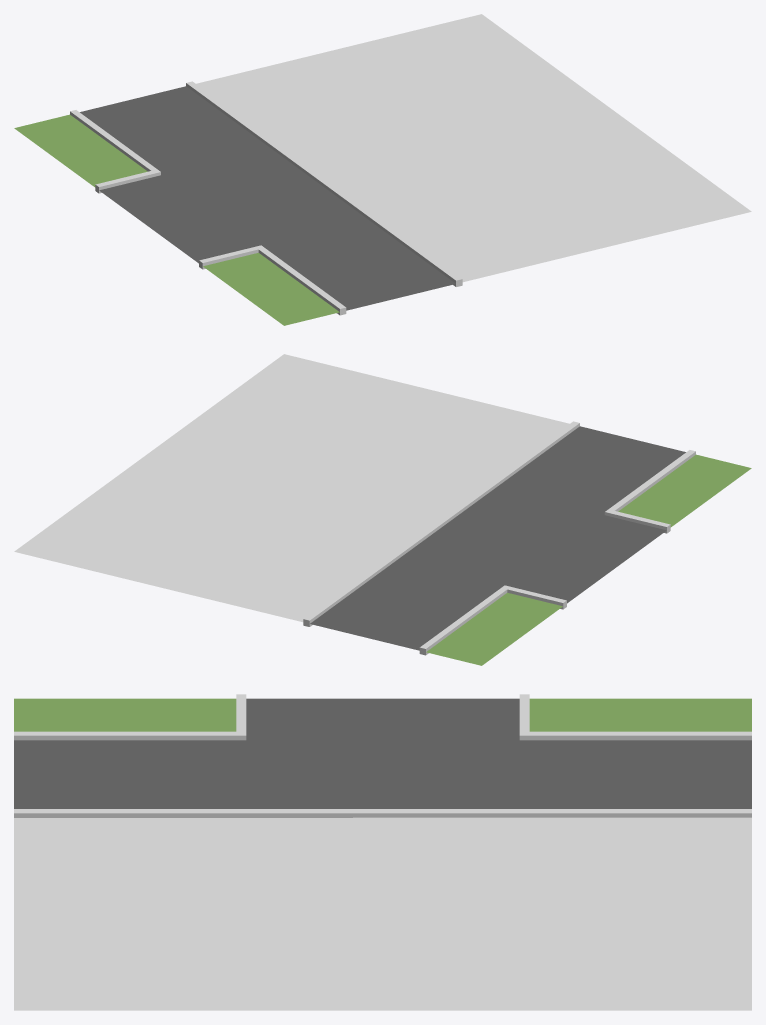
Rendered from set_b_tiles_04.glb.
3 views of the same model, one above another, from view 1: azimuth 30°, elevation 25°; view 2: azimuth 150°, elevation 25°; view 3: azimuth 270°, elevation 25° (orthographic). The views are drawn at different scales.
Parts seen in each view (by area): view 1: set_b_tiles_04; view 2: set_b_tiles_04; view 3: set_b_tiles_04.
Part boxes in pixels (x1,y1,x2,y2): set_b_tiles_04: (14,14,751,325); set_b_tiles_04: (14,354,751,665); set_b_tiles_04: (14,694,751,1010).
Bounding box in the file's own units: 15 × 0.2 × 15.
